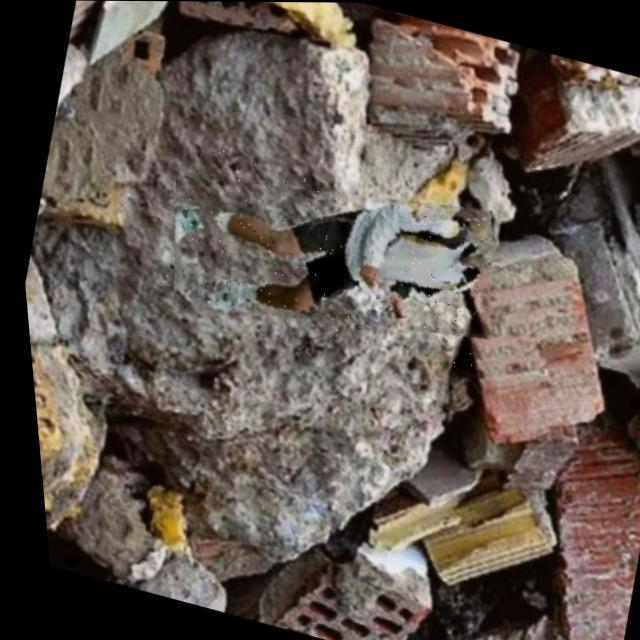Person in Rubble: (143, 139, 511, 373)
